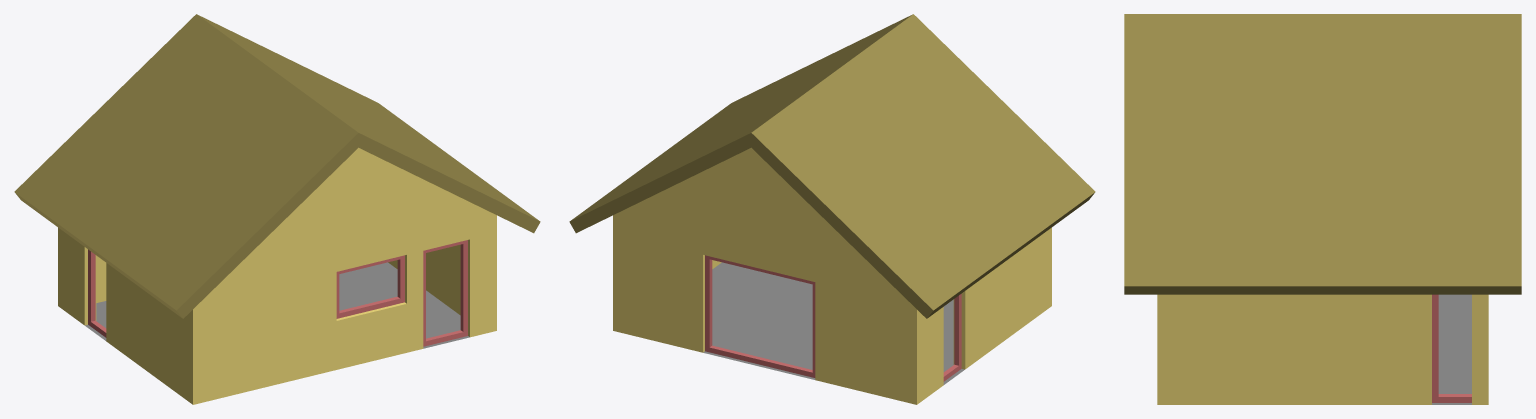
File: result.glb
The picture shows the model from 3 angles, left to right: view 1: azimuth 30°, elevation 25°; view 2: azimuth 150°, elevation 25°; view 3: azimuth 270°, elevation 25°; orthographic projection. The views are drawn at different scales.
Visible parts, largest first — view 1: c845b8ac-ecbb-45a0-a4e4-d06427dbedf1__undefined (×2), 53ec9de0-786a-4f16-bb39-90c18242612c__undefined, 85174ebc-fd45-475b-9f57-b3a401f0056d__Plane_6, 83140e81-8386-4415-8b63-1b5476d86f52__Box, 079d587d-4ba5-4b10-8d78-cf6384ddb9e1__Box_3, 47911b32-774c-4cde-a5a5-9bccaed67b35__Box_12; view 2: c845b8ac-ecbb-45a0-a4e4-d06427dbedf1__undefined (×2), 53ec9de0-786a-4f16-bb39-90c18242612c__undefined, 85174ebc-fd45-475b-9f57-b3a401f0056d__Plane_6, 233d6a7e-2c23-4802-86b1-d6f643f9e7cb__Box_9, 47911b32-774c-4cde-a5a5-9bccaed67b35__Box_12; view 3: c845b8ac-ecbb-45a0-a4e4-d06427dbedf1__undefined, 53ec9de0-786a-4f16-bb39-90c18242612c__undefined, 85174ebc-fd45-475b-9f57-b3a401f0056d__Plane_6, eb6f1d0d-b1ab-4fd9-964f-d80f4b2f37cc__Box_15.
Boxes of the visible parts, x1,y1,x2,y2 form: c845b8ac-ecbb-45a0-a4e4-d06427dbedf1__undefined (×2): (14, 14, 540, 318); 53ec9de0-786a-4f16-bb39-90c18242612c__undefined: (58, 147, 496, 404); 85174ebc-fd45-475b-9f57-b3a401f0056d__Plane_6: (85, 262, 469, 348); 83140e81-8386-4415-8b63-1b5476d86f52__Box: (423, 240, 467, 346); 079d587d-4ba5-4b10-8d78-cf6384ddb9e1__Box_3: (336, 255, 404, 318); 47911b32-774c-4cde-a5a5-9bccaed67b35__Box_12: (88, 249, 106, 337); c845b8ac-ecbb-45a0-a4e4-d06427dbedf1__undefined (×2): (569, 14, 1095, 318); 53ec9de0-786a-4f16-bb39-90c18242612c__undefined: (613, 147, 1051, 404); 85174ebc-fd45-475b-9f57-b3a401f0056d__Plane_6: (703, 262, 964, 384); 233d6a7e-2c23-4802-86b1-d6f643f9e7cb__Box_9: (705, 255, 815, 377); 47911b32-774c-4cde-a5a5-9bccaed67b35__Box_12: (943, 294, 961, 381); c845b8ac-ecbb-45a0-a4e4-d06427dbedf1__undefined: (1124, 14, 1521, 294); 53ec9de0-786a-4f16-bb39-90c18242612c__undefined: (1157, 294, 1488, 404); 85174ebc-fd45-475b-9f57-b3a401f0056d__Plane_6: (1432, 294, 1471, 404); eb6f1d0d-b1ab-4fd9-964f-d80f4b2f37cc__Box_15: (1432, 294, 1471, 402).
Size of the model in its own units: 778 by 500 by 600.
